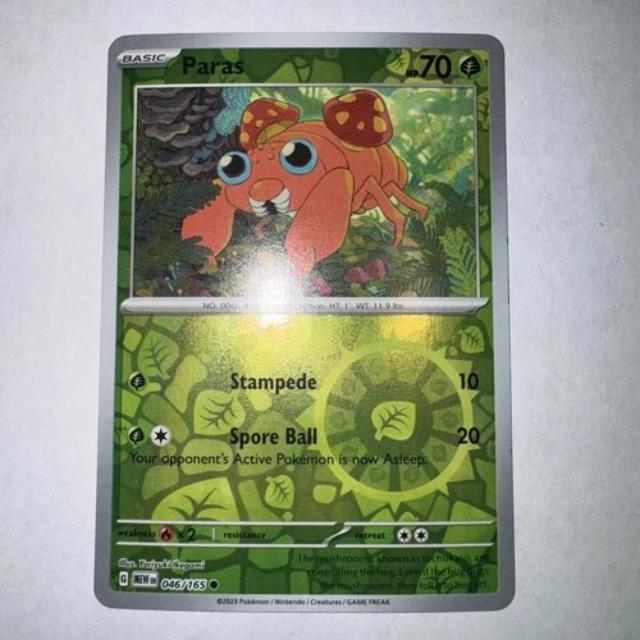Card: (84, 26, 521, 616)
Name: (175, 50, 248, 81)
